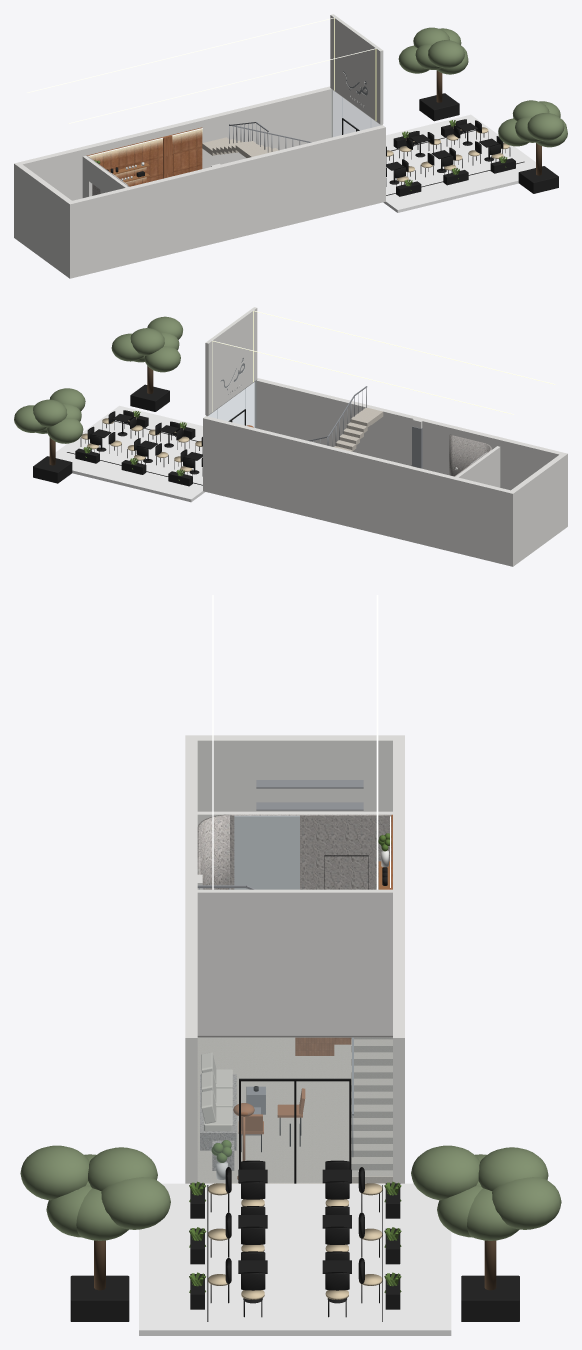
File: walk-ground.50cc2a486f.glb
3 renders of one model, top to bottom at view 1: azimuth 30°, elevation 25°; view 2: azimuth 150°, elevation 25°; view 3: azimuth 270°, elevation 25°, orthographic. The views are drawn at different scales.
Visible parts, largest first — view 1: wall_side_b, wall_side_t, out_floor, wall_back, wallbrick, fw_top, fw_left, canopy.005, canopy.012, fw_right, tree_box.001, tree_box (+13 smaller); view 2: wall_side_t, wall_side_b, out_floor, wall_back, fw_top, zebra_curve, fw_right, part, fw_left, tree_box.001, tree_box, canopy.002 (+12 smaller); view 3: out_floor, fw_top, floor_marble, wall_back, door_glass, fw_right, fw_left, fglass_right, fglass_left, wall_side_b, wall_side_t, zclad_part (+19 smaller).
Boxes of the visible parts, x1,y1,x2,y2 form: wall_side_b: (72,125,385,277); wall_side_t: (19,86,332,200); out_floor: (383,114,535,212); wall_back: (14,162,75,278); wallbrick: (86,127,202,186); fw_top: (341,22,372,115); fw_left: (369,43,383,123); canopy.005: (527,113,564,141); canopy.012: (428,40,464,68); fw_right: (330,14,343,94); tree_box.001: (419,93,459,121); tree_box: (518,166,558,193); wall_side_t: (203,416,510,565); wall_side_b: (254,378,562,490); out_floor: (55,405,204,502); wall_back: (507,452,567,566); fw_top: (216,315,246,406); zebra_curve: (449,434,491,476); fw_right: (205,335,218,414); part: (466,446,500,487); fw_left: (244,307,257,386); tree_box.001: (33,456,72,483); tree_box: (130,384,169,411); canopy.002: (130,328,164,355); out_floor: (139,1183,451,1335); fw_top: (239,889,351,1035); floor_marble: (197,1037,385,1183); wall_back: (185,735,404,811); door_glass: (241,1081,348,1182); fw_right: (351,889,392,1035); fw_left: (197,889,238,1035); fglass_right: (351,1038,392,1182); fglass_left: (198,1038,238,1182); wall_side_b: (185,740,197,1183); wall_side_t: (393,740,404,1183); zclad_part: (230,814,391,889).
Size of the model in its own units: 22.08 by 6.72 by 11.08.
Materials: 51 (4 with a texture image).
